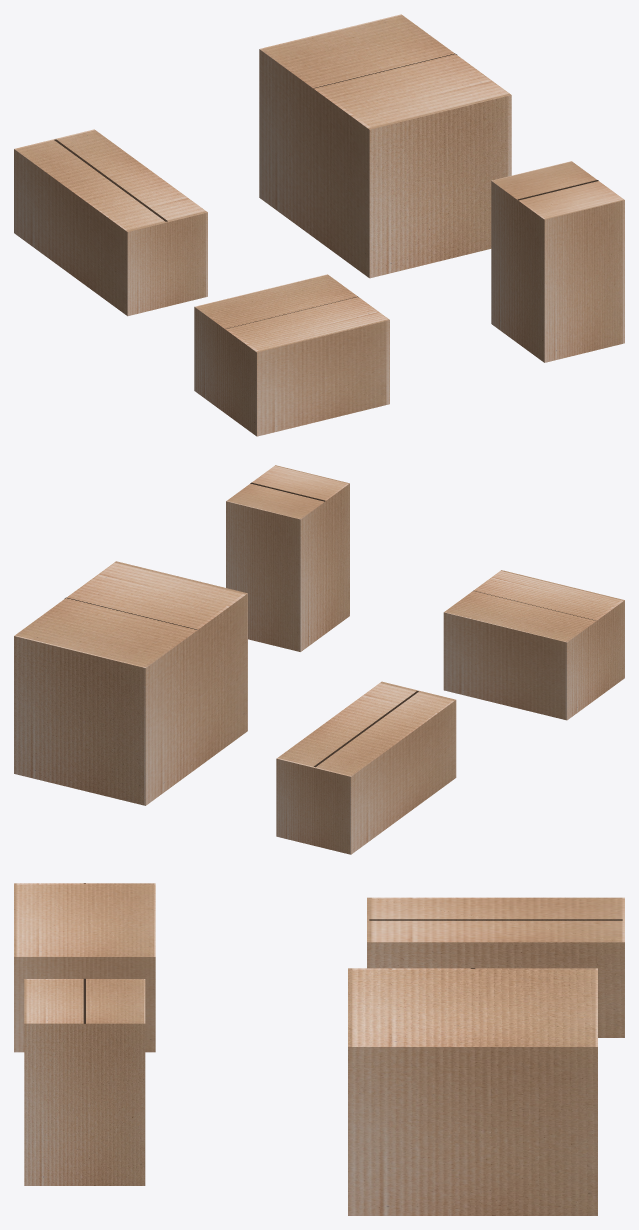
The model's file is mas cajas.fbx.
3 renders of one model, top to bottom at view 1: azimuth 30°, elevation 25°; view 2: azimuth 150°, elevation 25°; view 3: azimuth 270°, elevation 25°, orthographic. The views are drawn at different scales.
Visible parts, largest first — view 1: Cube.004, Cube.001, Cube.003, Cube.007; view 2: Cube.004, Cube.001, Cube.003, Cube.007; view 3: Cube.004, Cube.007, Cube.001, Cube.003.
Boxes of the visible parts, x1,y1,x2,y2 form: Cube.004: (259, 14, 511, 278); Cube.001: (14, 129, 207, 316); Cube.003: (194, 274, 389, 436); Cube.007: (491, 161, 624, 362); Cube.004: (14, 561, 247, 805); Cube.001: (276, 681, 456, 854); Cube.003: (443, 570, 624, 720); Cube.007: (226, 465, 349, 651); Cube.004: (348, 968, 597, 1215); Cube.007: (24, 978, 145, 1185); Cube.001: (367, 897, 624, 1037); Cube.003: (14, 883, 155, 1052).
Bounding box in the file's own units: 999 × 370 × 1160.
8 materials, 4 textured.
